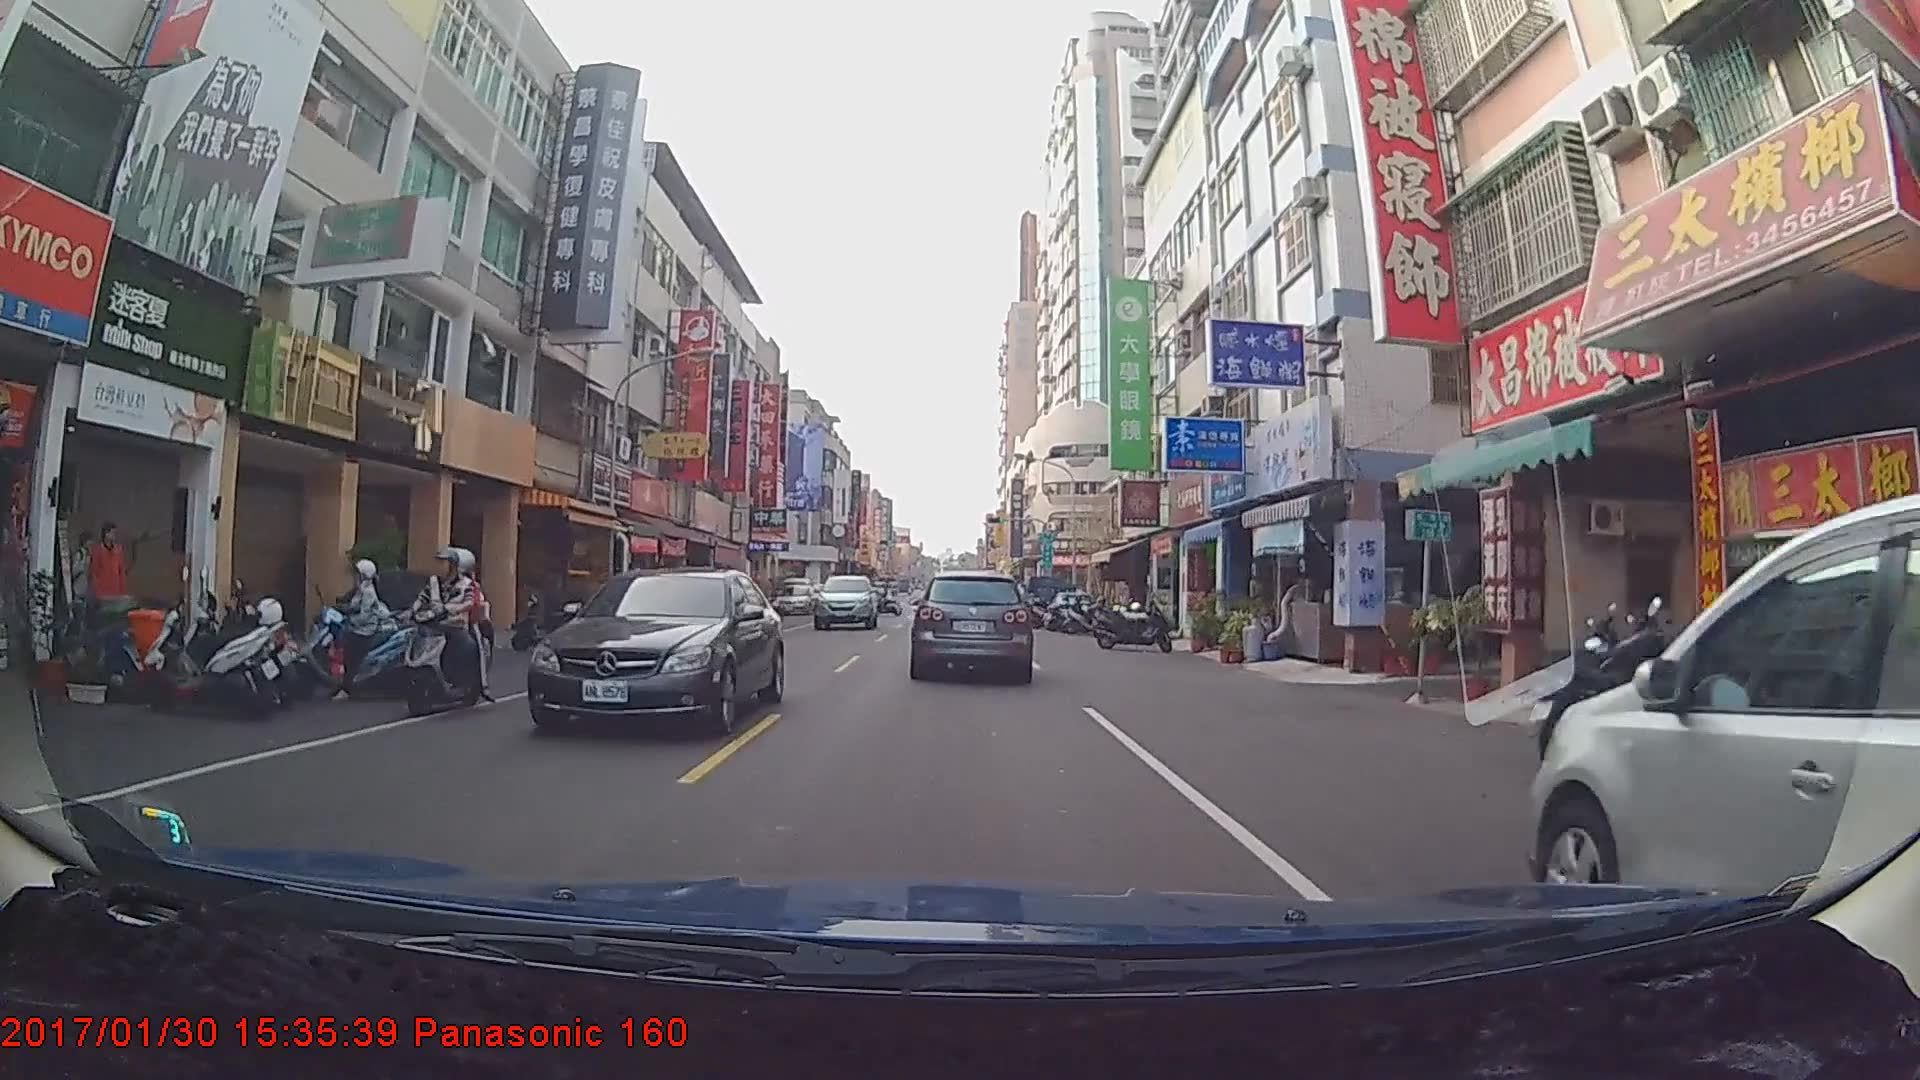pedestrian: (88, 514, 135, 645), (67, 519, 105, 636)
rider: (381, 543, 499, 721)
vehicle: (1536, 487, 1918, 1004), (524, 567, 784, 739), (910, 571, 1031, 681), (812, 574, 878, 631), (1024, 574, 1073, 619)
